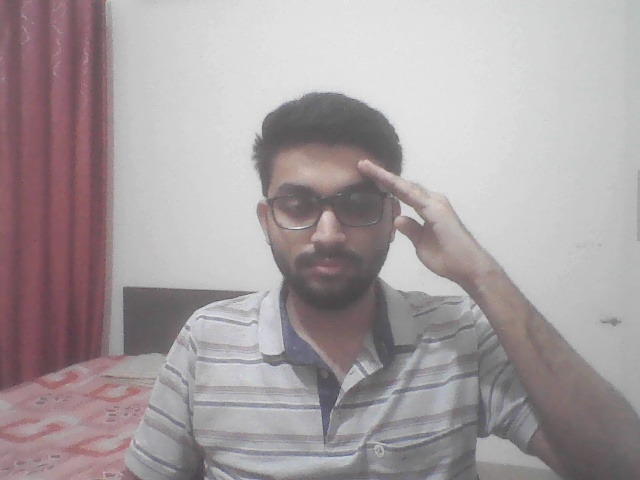hello: (336, 144, 523, 349)
